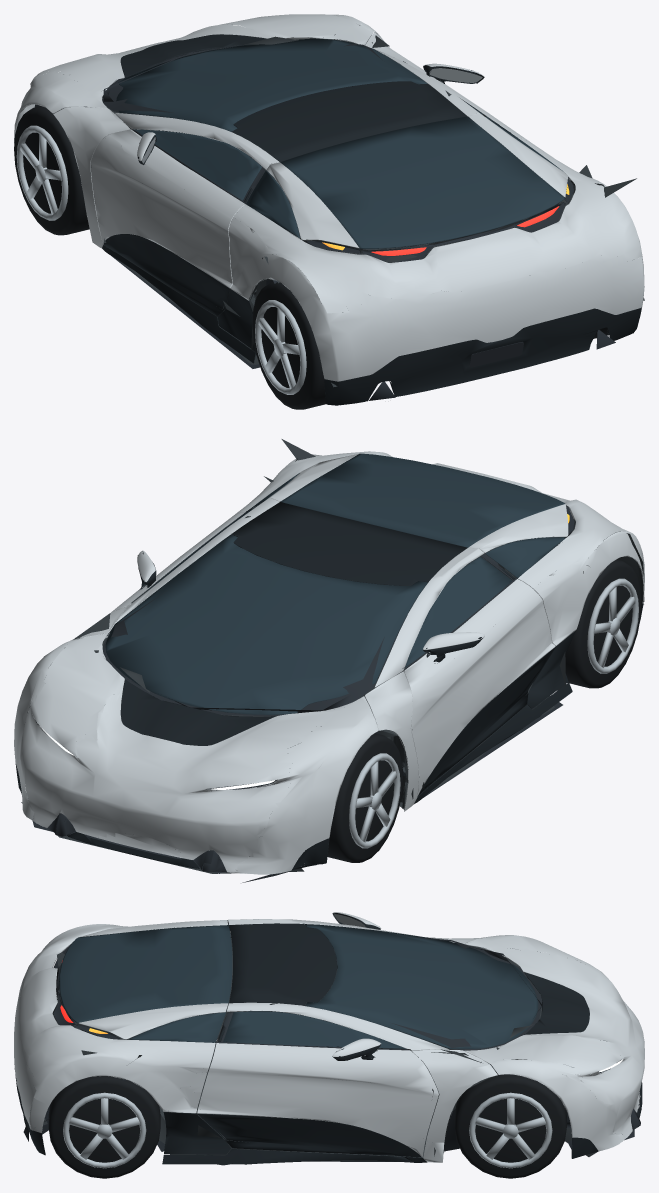
File: concept-hero.glb
The picture shows the model from 3 angles, top to bottom: view 1: azimuth 30°, elevation 25°; view 2: azimuth 150°, elevation 25°; view 3: azimuth 270°, elevation 25°; orthographic projection. The views are drawn at different scales.
Visible parts, largest first — view 1: Paint, Glass.001, Carbon, Trim, Rubber, Rubber.001, Metal.001, Metal.002, Interior, Metal; view 2: Paint, Glass.001, Carbon, Trim, Rubber, Rubber.001, Interior, Metal.001, Metal.002; view 3: Paint, Glass.001, Carbon, Rubber.002, Rubber.003, Trim, Metal.003, Metal.004, Interior.
Boxes of the visible parts, x1,y1,x2,y2 form: Paint: (14,14,644,381); Glass.001: (116,39,565,248); Carbon: (102,34,641,405); Trim: (34,43,615,400); Rubber: (14,106,89,235); Rubber.001: (252,281,342,409); Metal.001: (16,125,68,220); Metal.002: (255,300,306,394); Interior: (84,34,644,387); Metal: (142,68,482,163); Paint: (14,451,644,874); Glass.001: (105,453,565,714); Carbon: (15,502,643,869); Trim: (28,503,574,882); Rubber: (327,733,403,862); Rubber.001: (565,559,641,688); Interior: (21,439,644,873); Metal.001: (349,753,400,848); Metal.002: (587,578,638,673); Paint: (14,912,644,1162); Glass.001: (59,923,538,1049); Carbon: (14,913,642,1165); Rubber.002: (454,1072,566,1178); Rubber.003: (48,1076,160,1178); Trim: (23,921,640,1161); Metal.003: (469,1092,552,1168); Metal.004: (63,1092,146,1168); Interior: (29,924,638,1160).
Bounding box in the file's own units: 2.04 × 0.9859 × 3.73.
